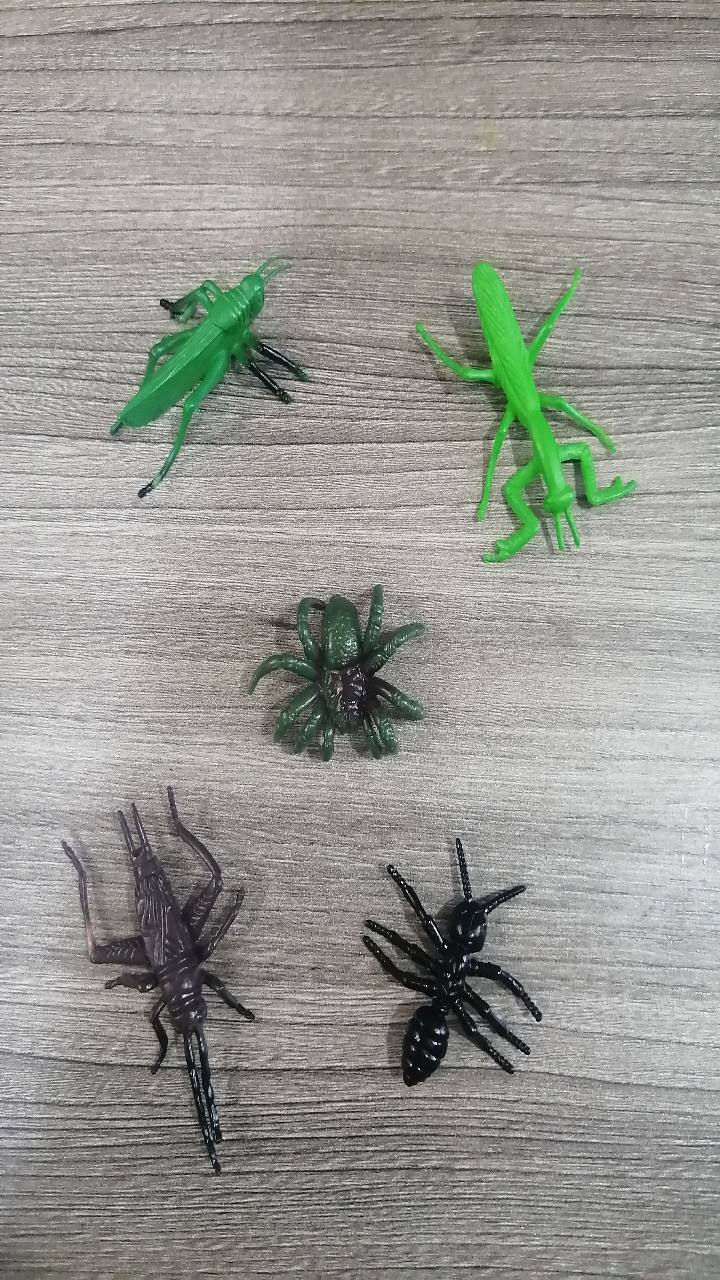intruso: (21, 771, 284, 1186), (384, 222, 646, 603), (324, 820, 583, 1112), (80, 248, 334, 499), (232, 557, 444, 766)
